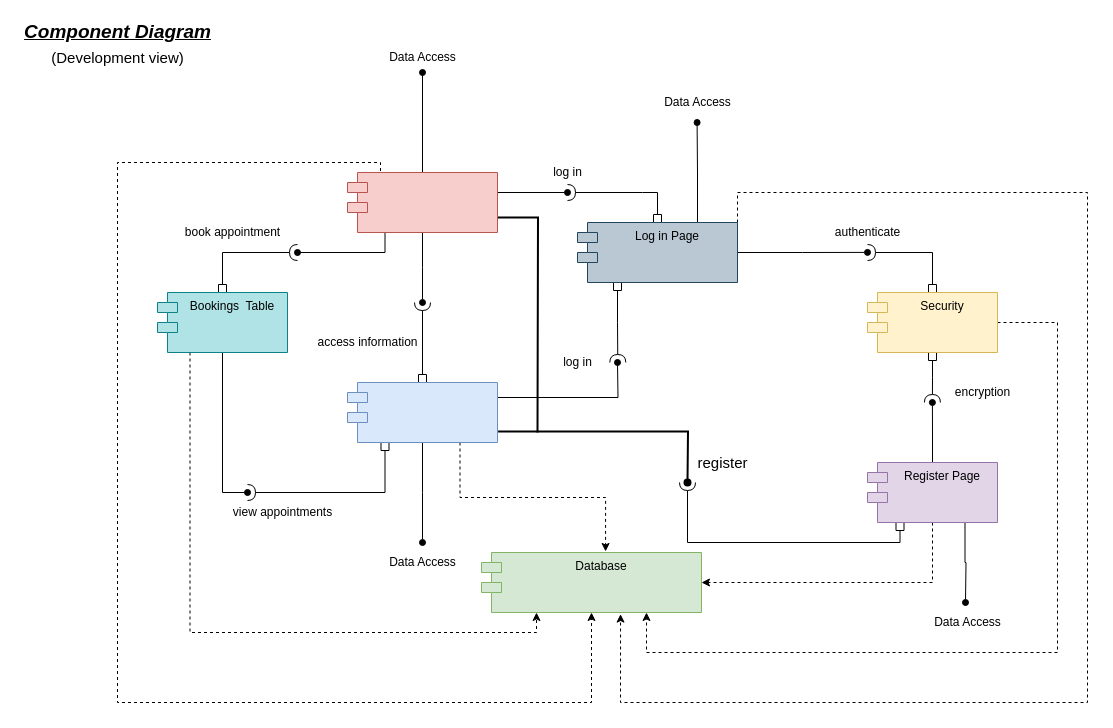
This 1113x728 diagram has some shape labels left out. The shapes that lost their labels are listed below. From the top down, each one's centre as x and y in pixels, then its label:
the point at 422,202: Patient
the point at 422,412: Doctor
